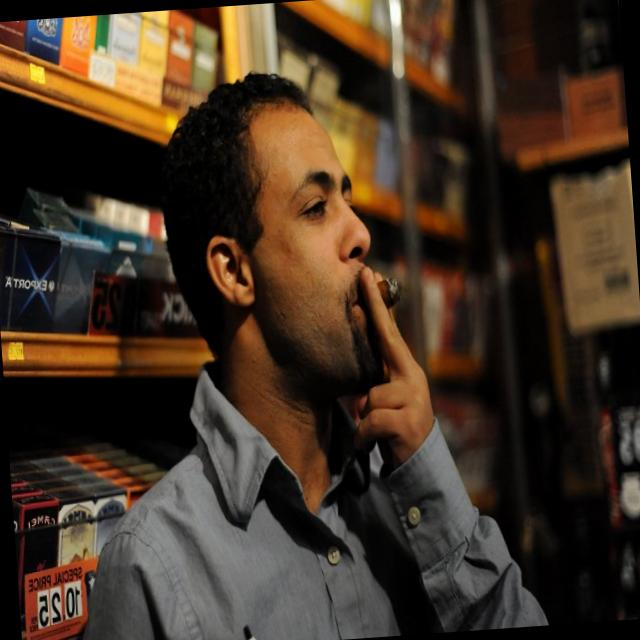cigarette: (378, 277, 403, 306)
